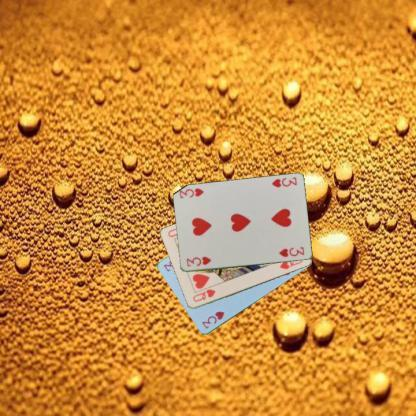3h: (199, 308, 226, 330), (269, 174, 298, 189), (184, 254, 212, 268)
Qh: (190, 286, 217, 304)
